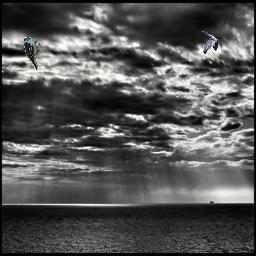Swallow: (201, 30, 222, 54)
Woodpecker: (21, 36, 41, 71)
